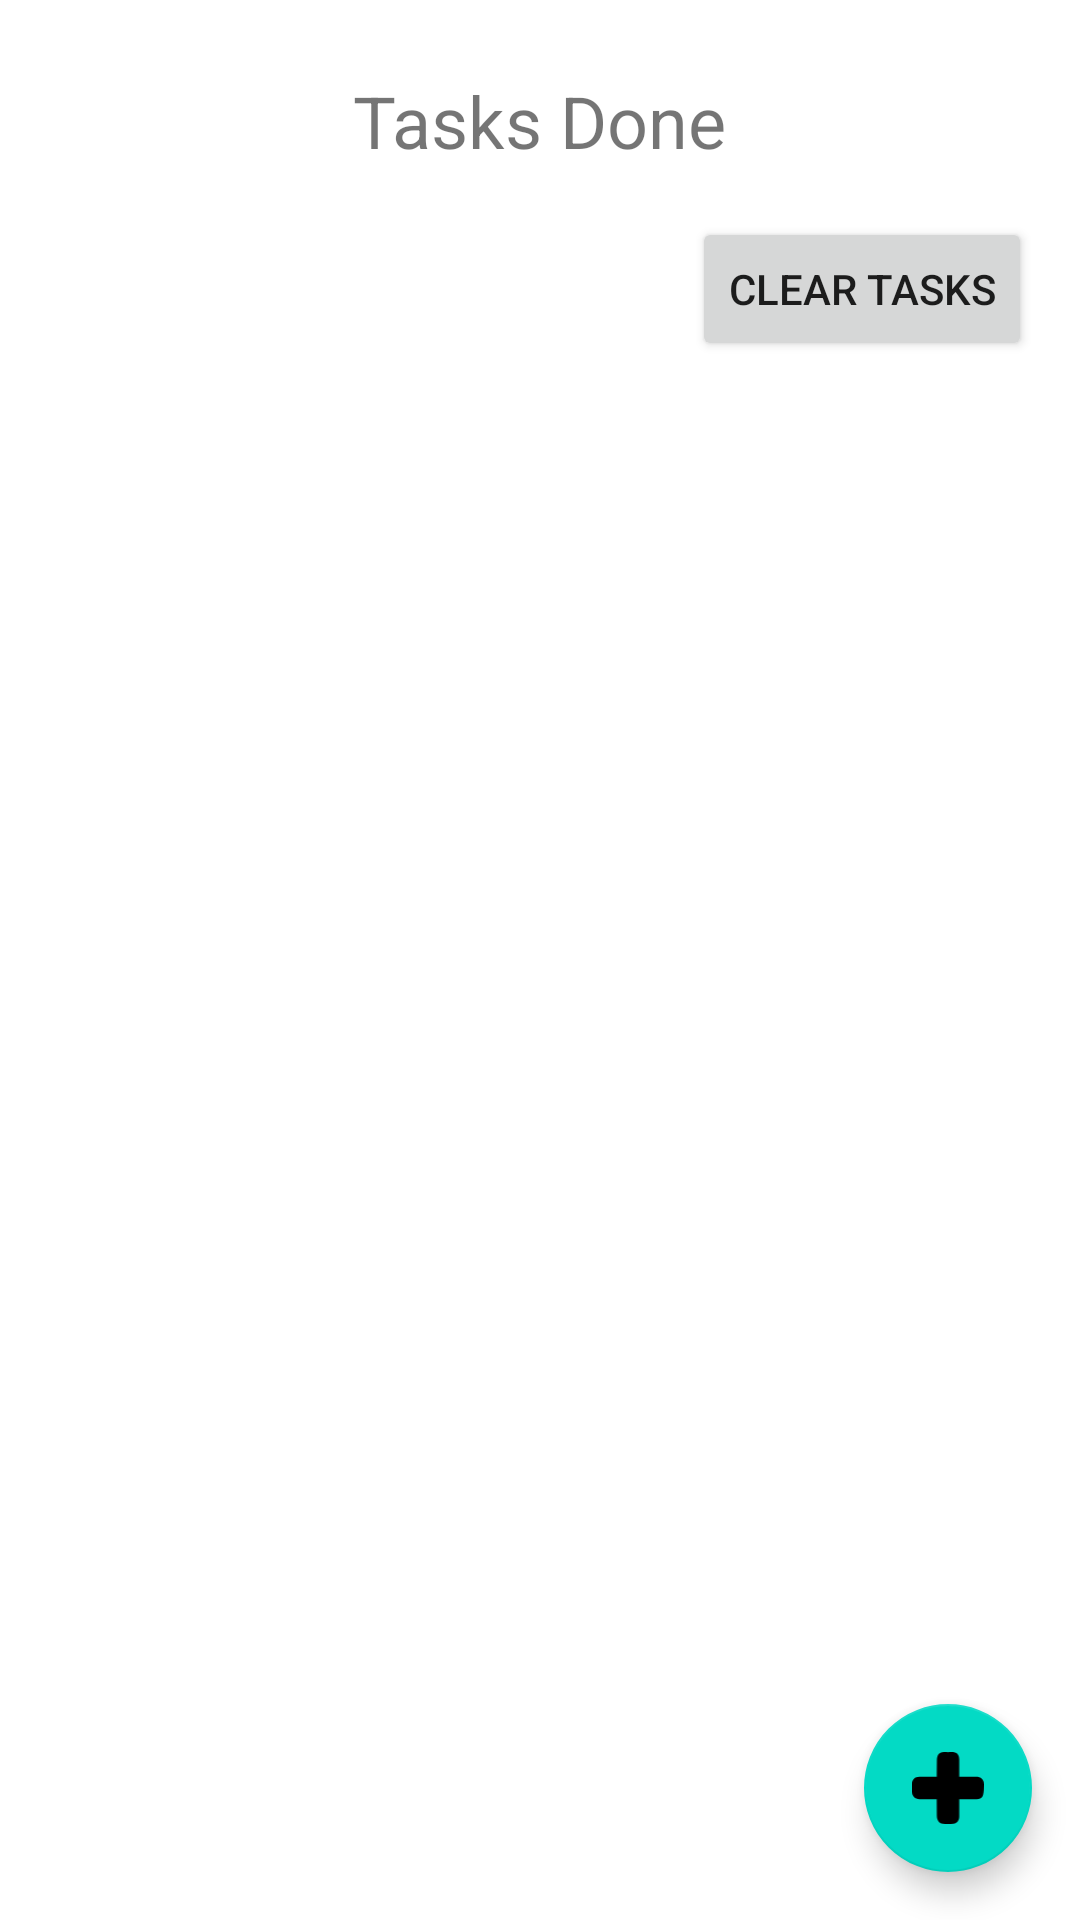

Named icons in this screenshot (1080×1920) and their centers, (x,y):
Add new Task: (948,1788)
